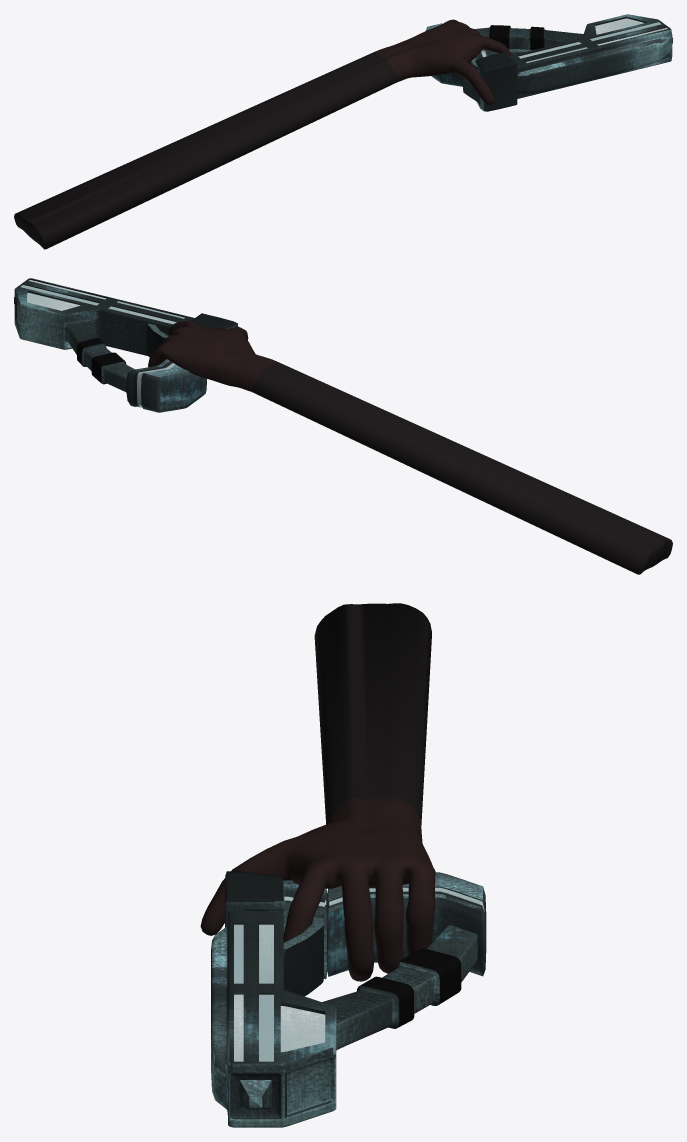
File: pistol.fbx
The picture shows the model from 3 angles, top to bottom: view 1: azimuth 30°, elevation 25°; view 2: azimuth 150°, elevation 25°; view 3: azimuth 270°, elevation 25°; orthographic projection. The views are drawn at different scales.
Visible parts, largest first — view 1: Cylinder005, Gun; view 2: Cylinder005, Gun; view 3: Cylinder005, Gun.
Boxes of the visible parts, x1,y1,x2,y2 form: Cylinder005: (14, 19, 511, 249); Gun: (426, 14, 672, 111); Cylinder005: (148, 320, 672, 574); Gun: (14, 278, 237, 412); Cylinder005: (200, 603, 435, 981); Gun: (211, 871, 486, 1127).
Size of the model in its own units: 114 by 19.29 by 22.88.
2 materials, 2 textured.
